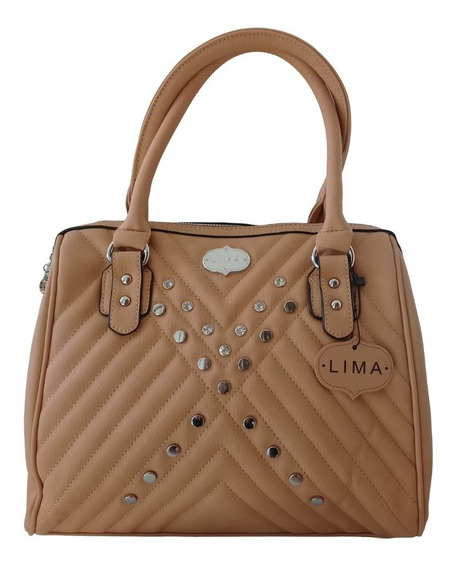cartera: (23, 26, 435, 537)
